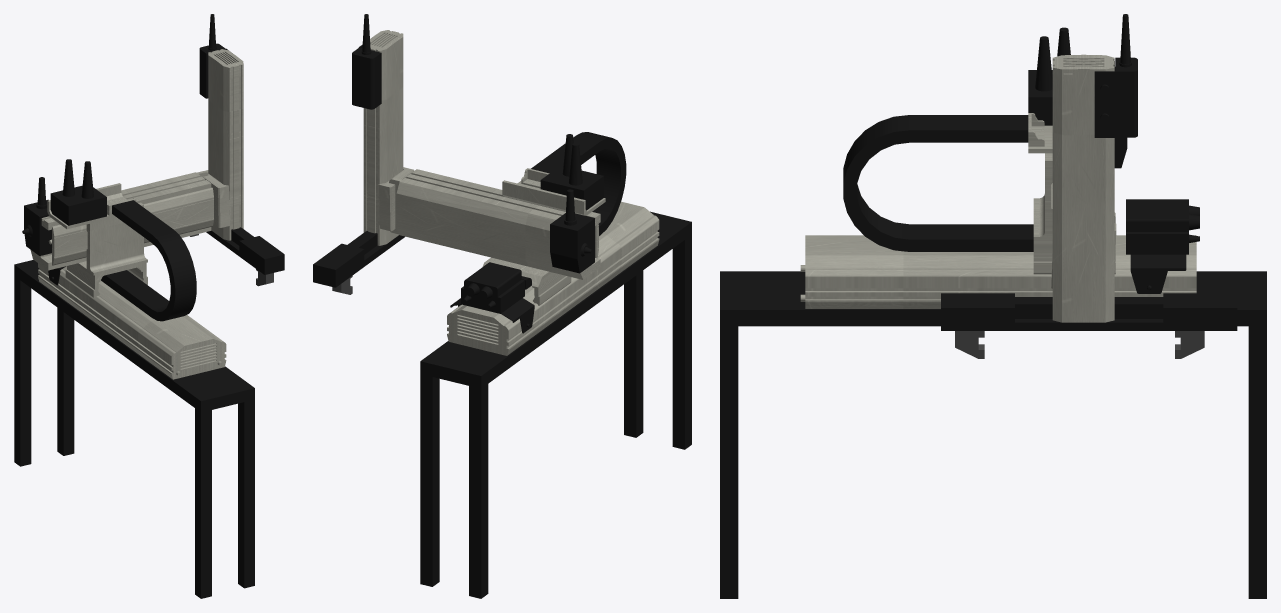
File: PP_Robot_LargeGrip.glb
The picture shows the model from 3 angles, left to right: view 1: azimuth 30°, elevation 25°; view 2: azimuth 150°, elevation 25°; view 3: azimuth 270°, elevation 25°; orthographic projection. The views are drawn at different scales.
Parts seen in each view (by area): view 1: color-8.002, PP_Machine_Floating_X_Rebuilt, color-9.002, color-5[5], color.003, PP_Floating_X_Bodies, PP_Gripper, color-5.002, color[1].001; view 2: color-8.002, color-5[5], color-9.002, PP_Machine_Floating_X_Rebuilt, color.003, color-9[1], PP_Gripper, color-5.002, color[1].001, PP_Floating_X_Bodies; view 3: color-8.002, color-9.002, color.003, PP_Machine_Floating_X_Rebuilt, PP_Gripper, color-9[1], color[1].001, PP_Floating_X_Bodies.
Boxes of the visible parts, x1=… form: color-8.002: x1=14, y1=260, x2=254, y2=598; PP_Machine_Floating_X_Rebuilt: x1=47, y1=159, x2=196, y2=321; color-9.002: x1=38, y1=263, x2=226, y2=379; color-5[5]: x1=30, y1=170, x2=230, y2=270; color.003: x1=208, y1=49, x2=243, y2=240; PP_Floating_X_Bodies: x1=50, y1=161, x2=106, y2=225; PP_Gripper: x1=206, y1=227, x2=284, y2=274; color-5.002: x1=24, y1=199, x2=51, y2=255; color[1].001: x1=199, y1=14, x2=228, y2=98; color-8.002: x1=420, y1=211, x2=691, y2=598; color-5[5]: x1=378, y1=167, x2=600, y2=279; color-9.002: x1=447, y1=201, x2=659, y2=355; PP_Machine_Floating_X_Rebuilt: x1=482, y1=132, x2=626, y2=305; color.003: x1=363, y1=30, x2=403, y2=245; color-9[1]: x1=450, y1=262, x2=534, y2=333; PP_Gripper: x1=313, y1=231, x2=404, y2=287; color-5.002: x1=550, y1=213, x2=594, y2=273; color[1].001: x1=352, y1=14, x2=381, y2=109; PP_Floating_X_Bodies: x1=540, y1=134, x2=603, y2=210; color-8.002: x1=720, y1=271, x2=1266, y2=598; color-9.002: x1=800, y1=235, x2=1196, y2=308; color.003: x1=1052, y1=54, x2=1114, y2=322; PP_Machine_Floating_X_Rebuilt: x1=843, y1=27, x2=1115, y2=274; PP_Gripper: x1=941, y1=293, x2=1237, y2=330; color-9[1]: x1=1126, y1=199, x2=1199, y2=293; color[1].001: x1=1094, y1=14, x2=1137, y2=137; PP_Floating_X_Bodies: x1=1028, y1=36, x2=1052, y2=125.
Bounding box in the file's own units: 0.3827 × 0.79 × 0.6.
Materials: 4 (1 with a texture image).
